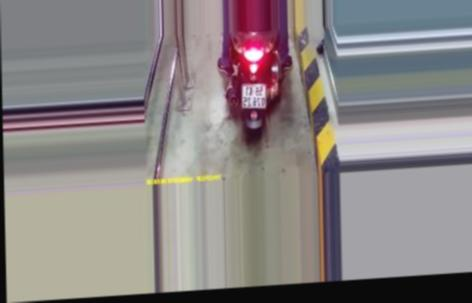License_Plate: (238, 79, 271, 113)
